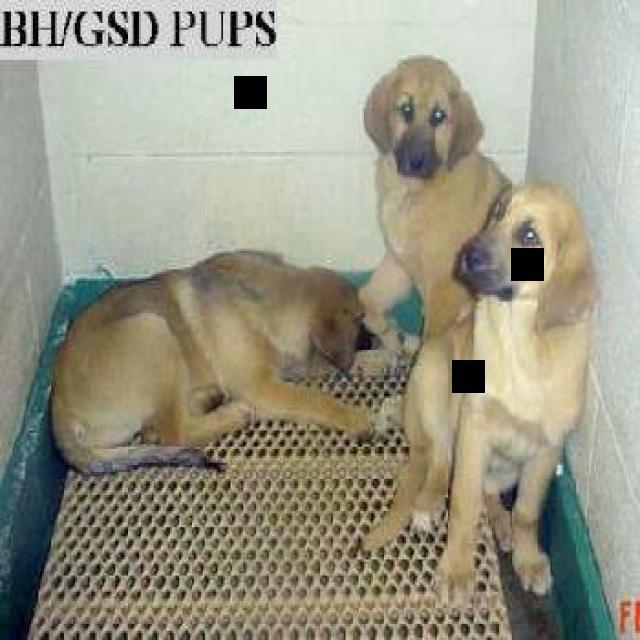puppy-dog: (355, 173, 604, 623), (38, 252, 385, 478), (352, 51, 518, 379)
